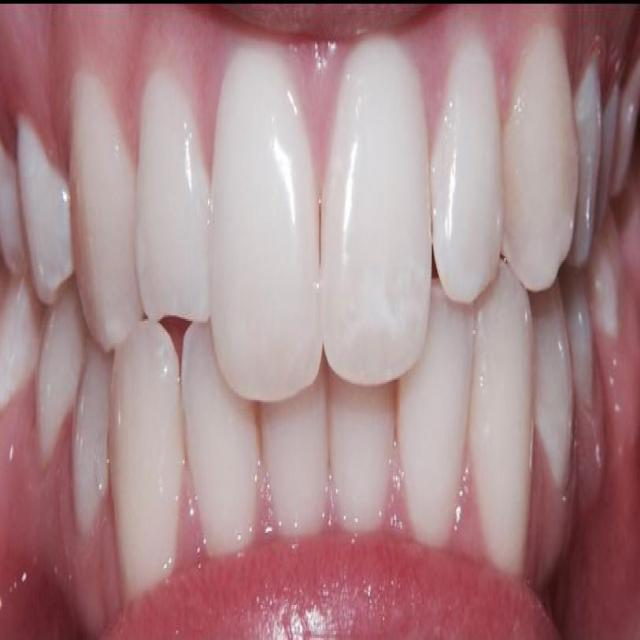1st Molar: (0, 273, 43, 413), (588, 223, 623, 338), (619, 74, 640, 183)
1st Premolar: (17, 120, 72, 306), (532, 291, 572, 487), (72, 347, 110, 531), (575, 55, 602, 264)
2nd Premolar: (36, 297, 85, 468), (568, 280, 595, 435), (0, 146, 25, 269), (601, 83, 619, 205)
Canine: (69, 72, 144, 354), (502, 24, 579, 293), (111, 326, 185, 598), (468, 264, 531, 572)
Central Incisor: (209, 42, 323, 402), (324, 37, 432, 385), (260, 382, 331, 546), (329, 378, 394, 531)
Lateral Incisor: (398, 290, 474, 546), (431, 37, 503, 306), (137, 74, 210, 325), (181, 323, 257, 555)
